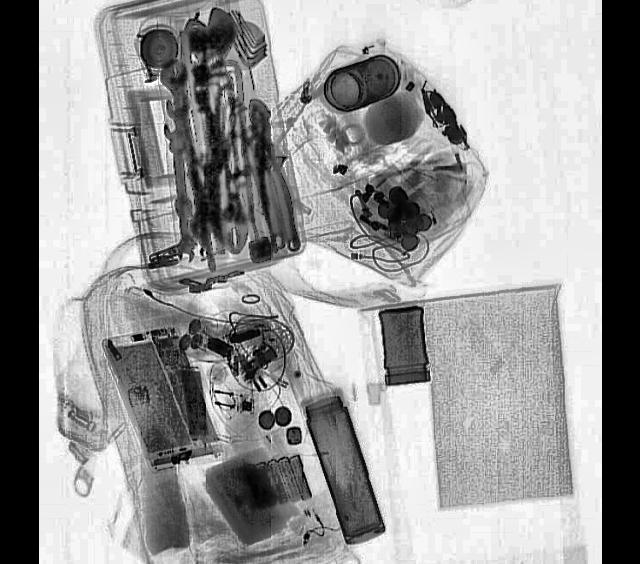Pliers: (240, 96, 298, 260)
Wrench: (160, 123, 196, 265), (162, 94, 208, 194)
